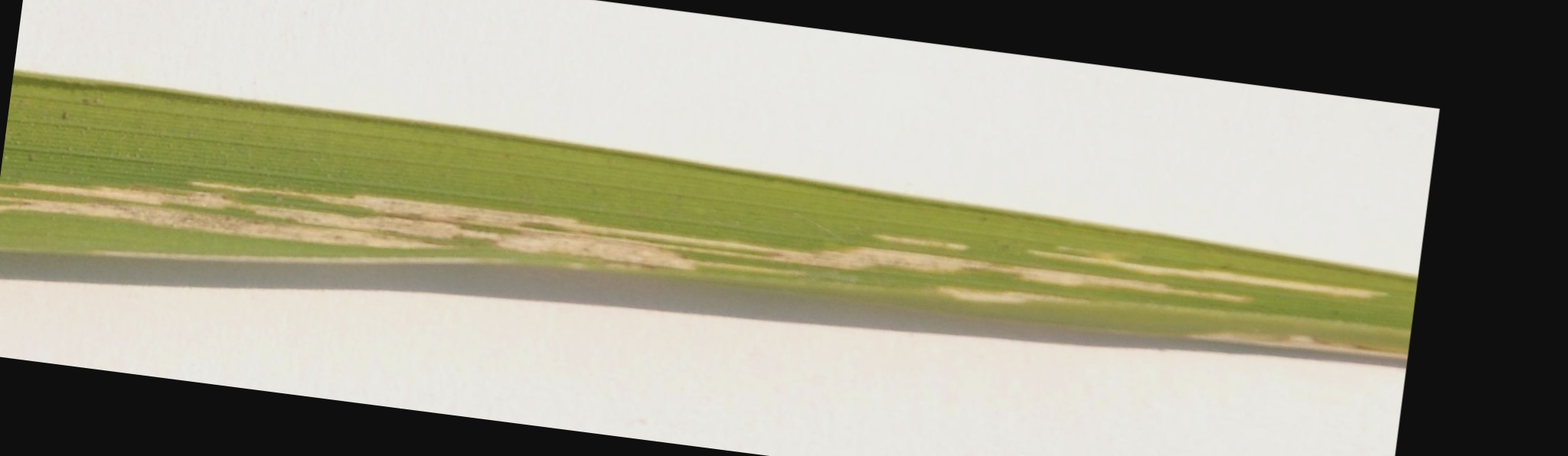Leaf_Blast: (0, 184, 1399, 337)
